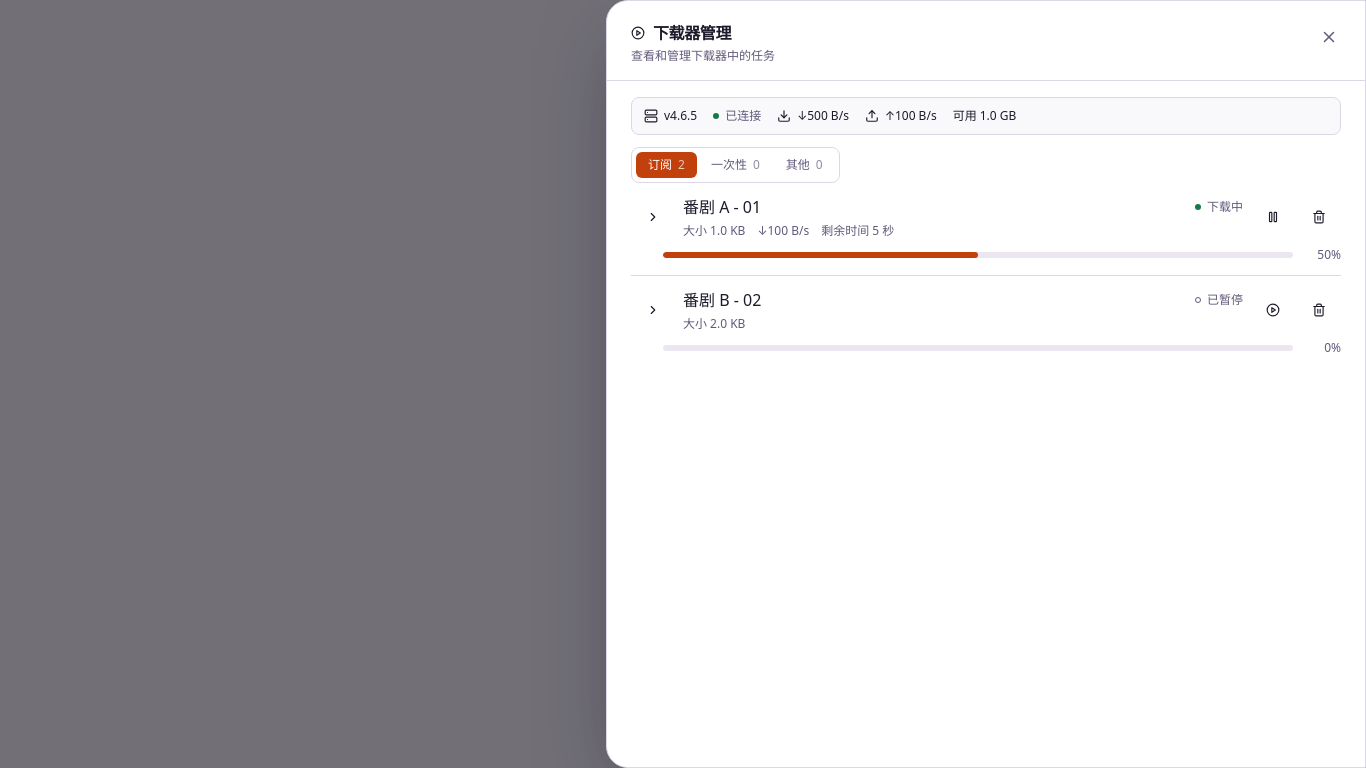
QBManagerDialog › 展开行显示文件列表
The width and height of the screenshot is (1366, 768).
Click the button named "展开文件列表" next to "番剧 A - 01" at (653, 217), box [631, 195, 675, 239]
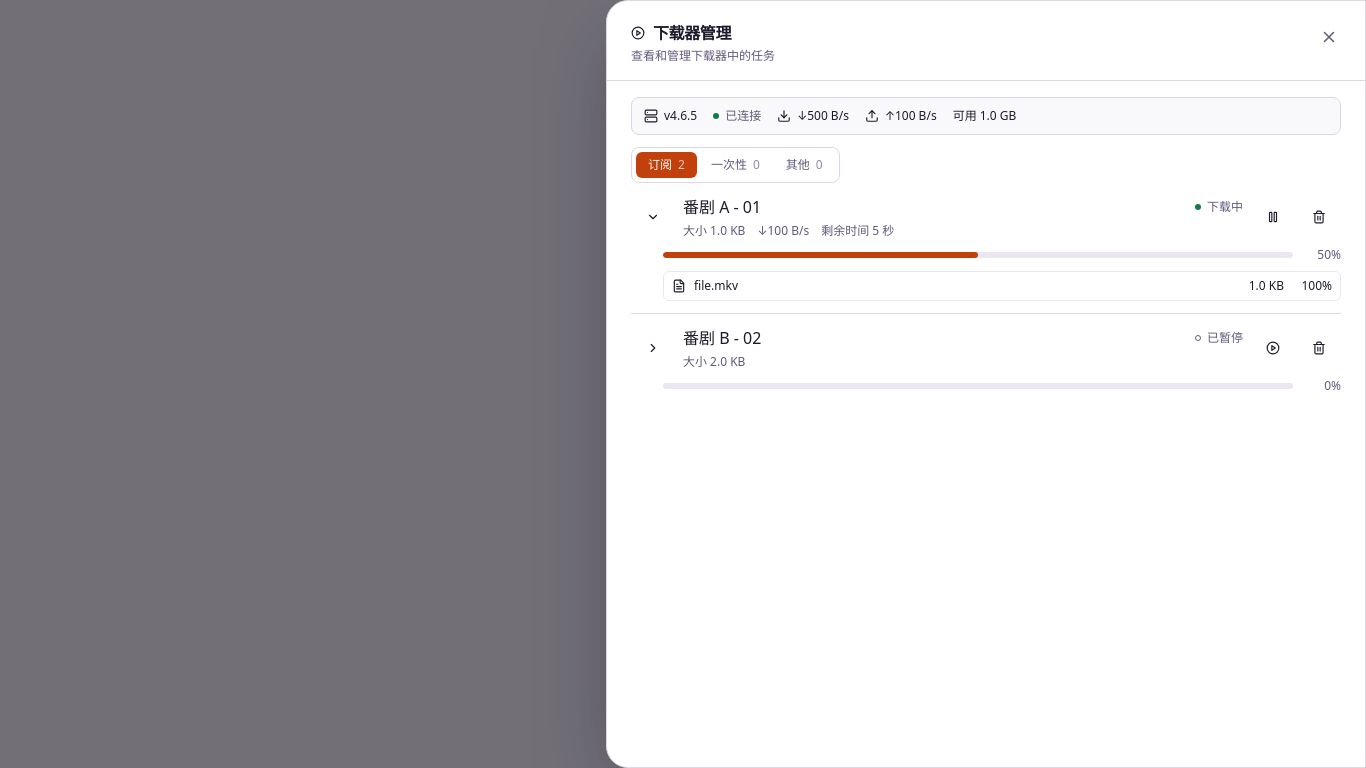
Expected: the text "file.mkv" is shown, [694, 277, 738, 294]
